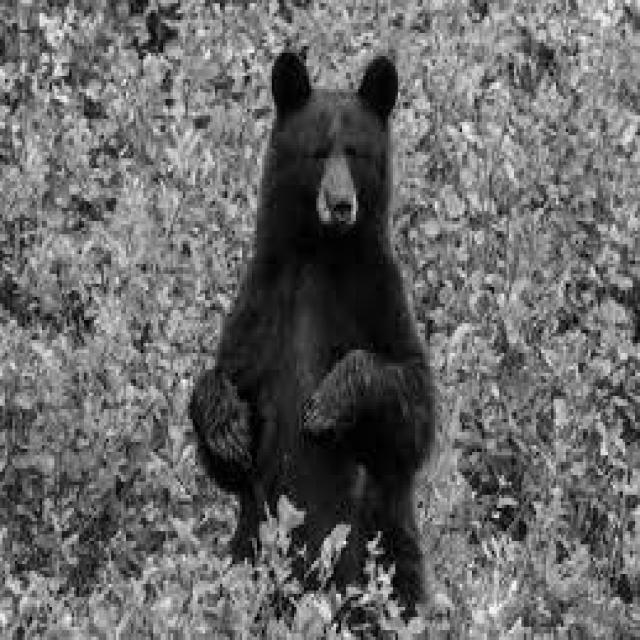Bear: (189, 52, 443, 640)
